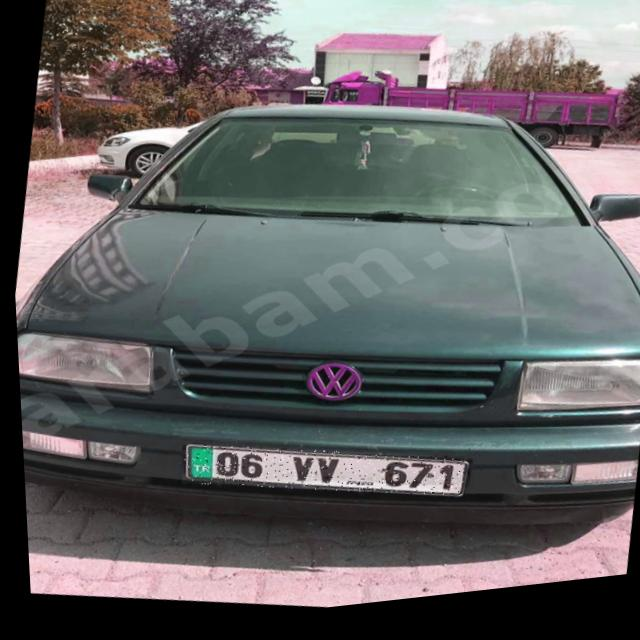license_plate: (175, 423, 463, 531)
